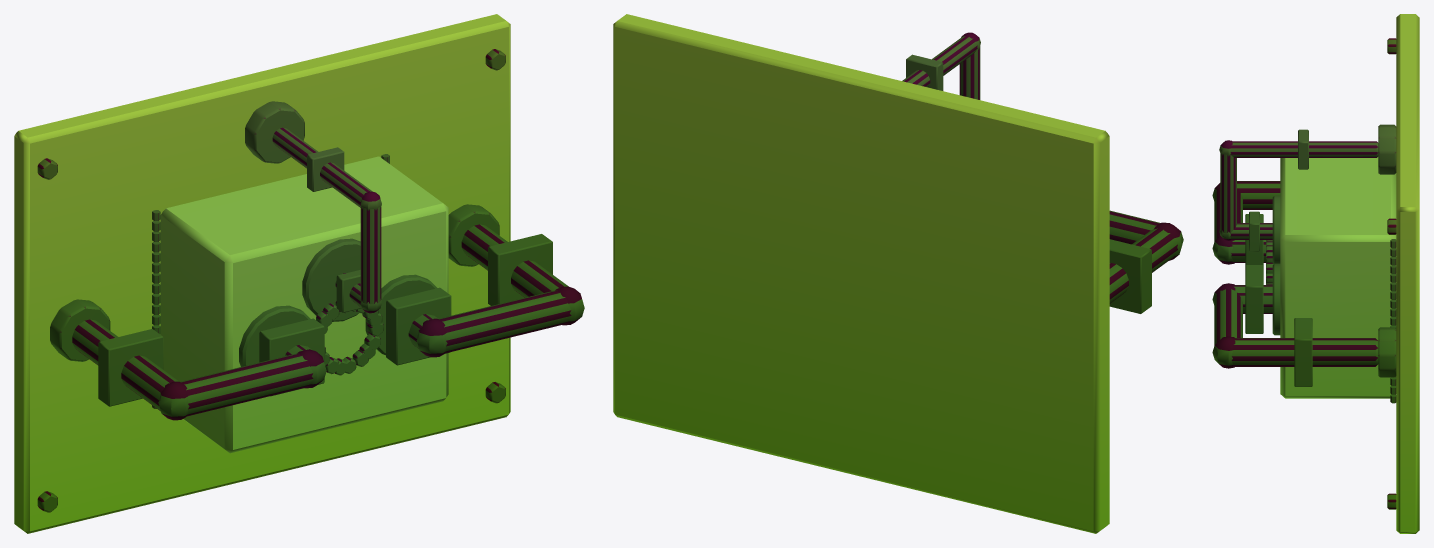
Rendered from RCLModule_command_relay_beryllium_mirror_hull_sponsons.fbx.
3 views of the same model, side by side, from view 1: azimuth 30°, elevation 25°; view 2: azimuth 150°, elevation 25°; view 3: azimuth 270°, elevation 25° (orthographic). The views are drawn at different scales.
Parts seen in each view (by area): view 1: RCLModule_command_relay_beryllium_mirror_hull_sponsons_Batch (×2); view 2: RCLModule_command_relay_beryllium_mirror_hull_sponsons_Batch (×2); view 3: RCLModule_command_relay_beryllium_mirror_hull_sponsons_Batch (×2).
Part boxes in pixels (box(x1,y1,x2,y2)): RCLModule_command_relay_beryllium_mirror_hull_sponsons_Batch (×2): box(14, 14, 584, 533); RCLModule_command_relay_beryllium_mirror_hull_sponsons_Batch (×2): box(613, 14, 1183, 533); RCLModule_command_relay_beryllium_mirror_hull_sponsons_Batch (×2): box(1212, 14, 1419, 533).
Bounding box in the file's own units: 36 × 28 × 16.06.
